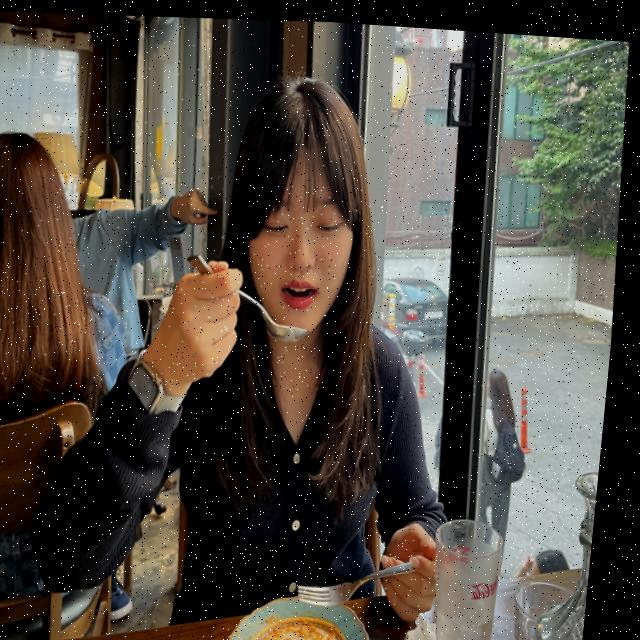eating-person: (3, 29, 501, 640)
